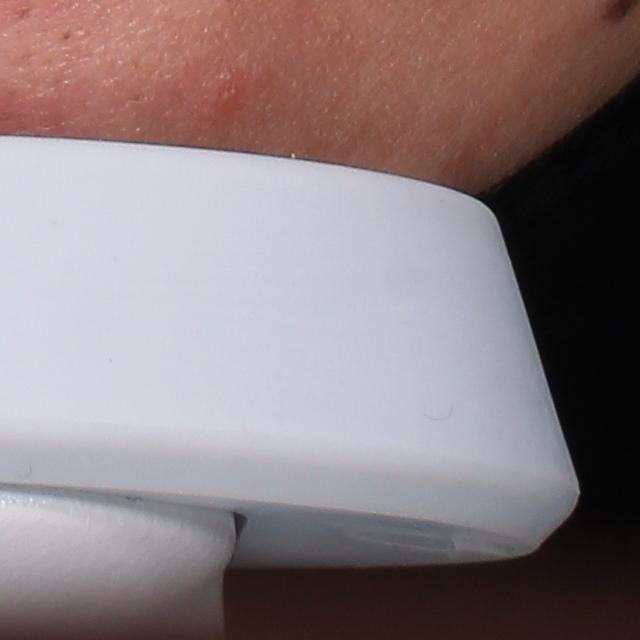papule: (205, 76, 243, 116)
